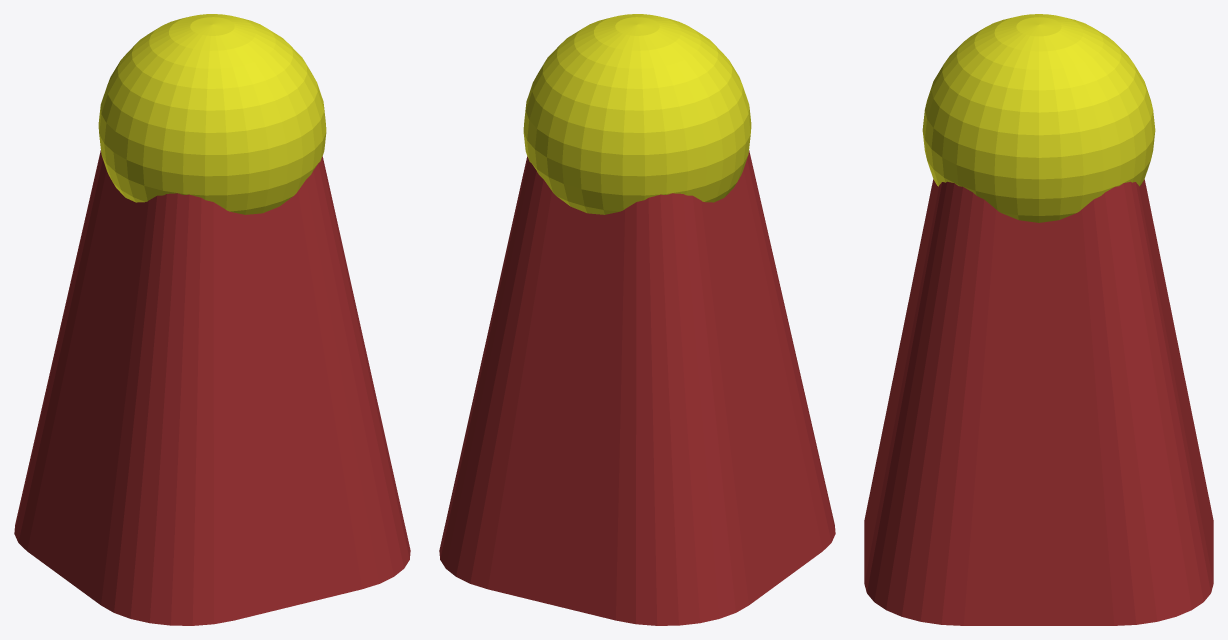
Rendered from pion3.glb.
3 views of the same model, side by side, from view 1: azimuth 30°, elevation 25°; view 2: azimuth 150°, elevation 25°; view 3: azimuth 270°, elevation 25° (orthographic).
Visible parts, largest first — view 1: Sphere.003; view 2: Sphere.003; view 3: Sphere.003.
Part boxes in pixels (box(x1,y1,x2,y2)): Sphere.003: box(14, 14, 410, 625); Sphere.003: box(439, 14, 835, 625); Sphere.003: box(864, 14, 1213, 625).
Size of the model in its own units: 0.375 by 0.625 by 0.375.
